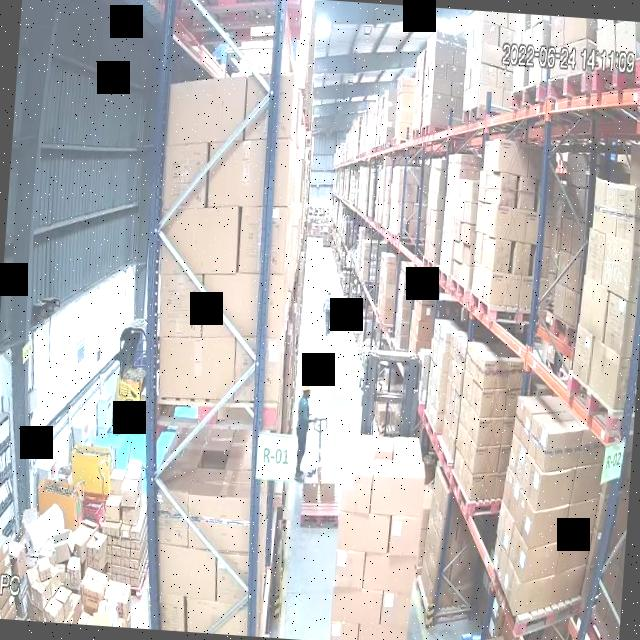box: (106, 314, 153, 422), (498, 503, 563, 571), (519, 454, 575, 512), (528, 416, 584, 468), (478, 385, 505, 419), (481, 361, 509, 390), (477, 420, 503, 444), (473, 450, 499, 473), (470, 477, 496, 500)
